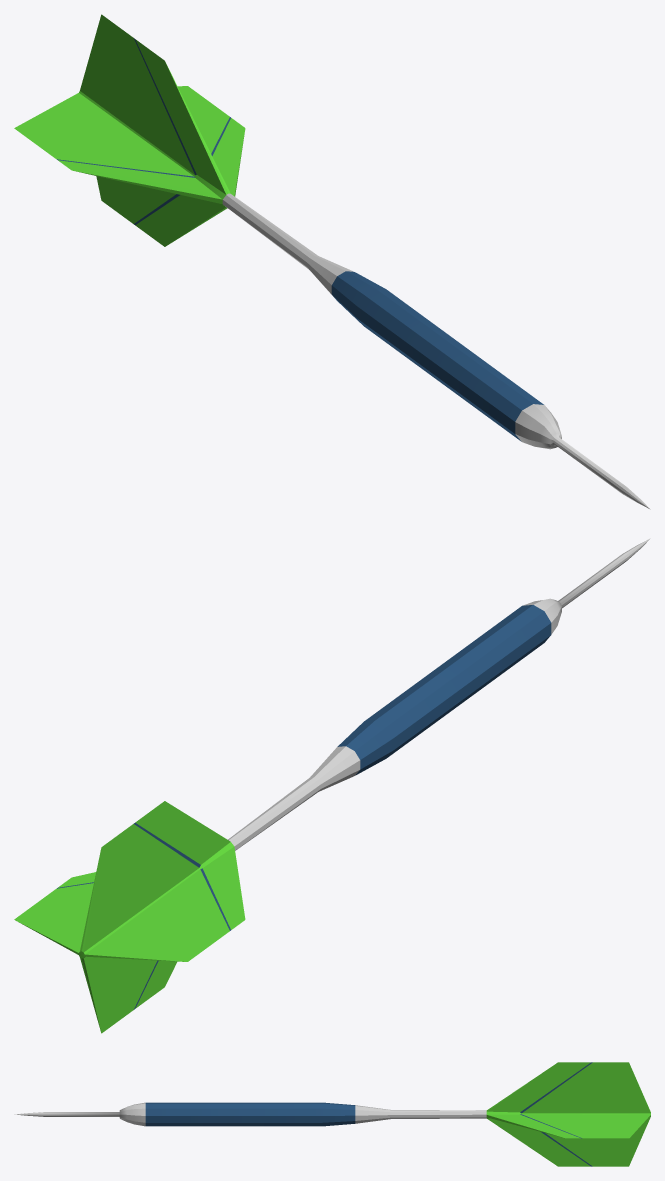
Rendered from dart.fbx.
3 renders of one model, top to bottom at view 1: azimuth 30°, elevation 25°; view 2: azimuth 150°, elevation 25°; view 3: azimuth 270°, elevation 25°, orthographic. The views are drawn at different scales.
Visible parts, largest first — view 1: dart; view 2: dart; view 3: dart.
Boxes of the visible parts, left/top/right/bottom form: dart: left=14, top=14, right=650, bottom=509; dart: left=14, top=538, right=650, bottom=1033; dart: left=14, top=1062, right=650, bottom=1166.
Size of the model in its own units: 1.82 by 1.86 by 10.3.
